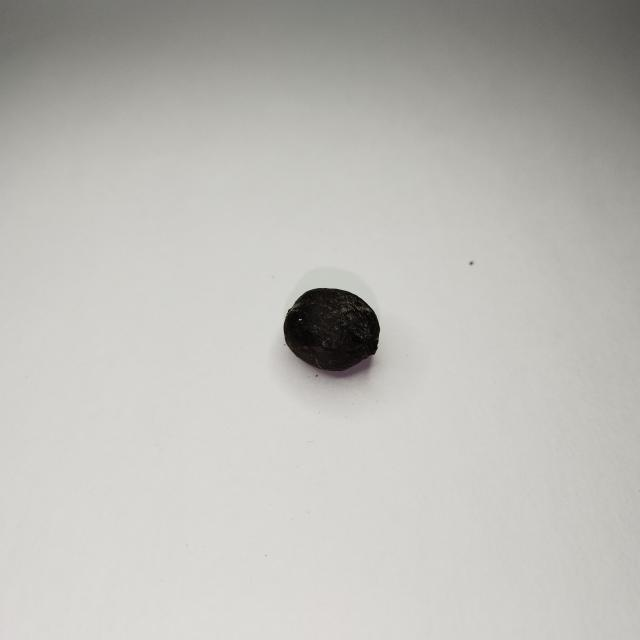Danado: (284, 289, 379, 371)
